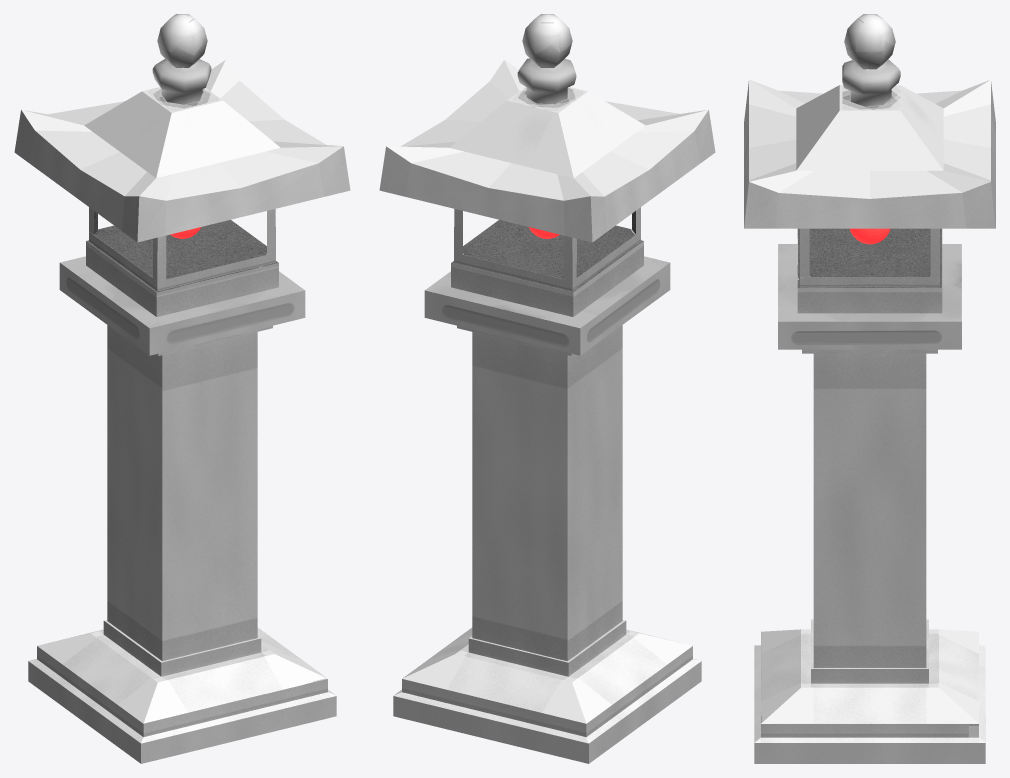
File: Lanterna.gltf
The picture shows the model from 3 angles, left to right: view 1: azimuth 30°, elevation 25°; view 2: azimuth 150°, elevation 25°; view 3: azimuth 270°, elevation 25°; orthographic projection. The views are drawn at different scales.
Parts seen in each view (by area): view 1: Plano; view 2: Plano; view 3: Plano, Esfera UV.
Boxes of the visible parts, bbox=[...] form: Plano: bbox=[14, 14, 350, 763]; Plano: bbox=[379, 14, 715, 763]; Plano: bbox=[744, 14, 995, 763]; Esfera UV: bbox=[850, 228, 890, 244].
Size of the model in its own units: 1.92 by 5.89 by 1.92.
2 materials, 1 textured.
